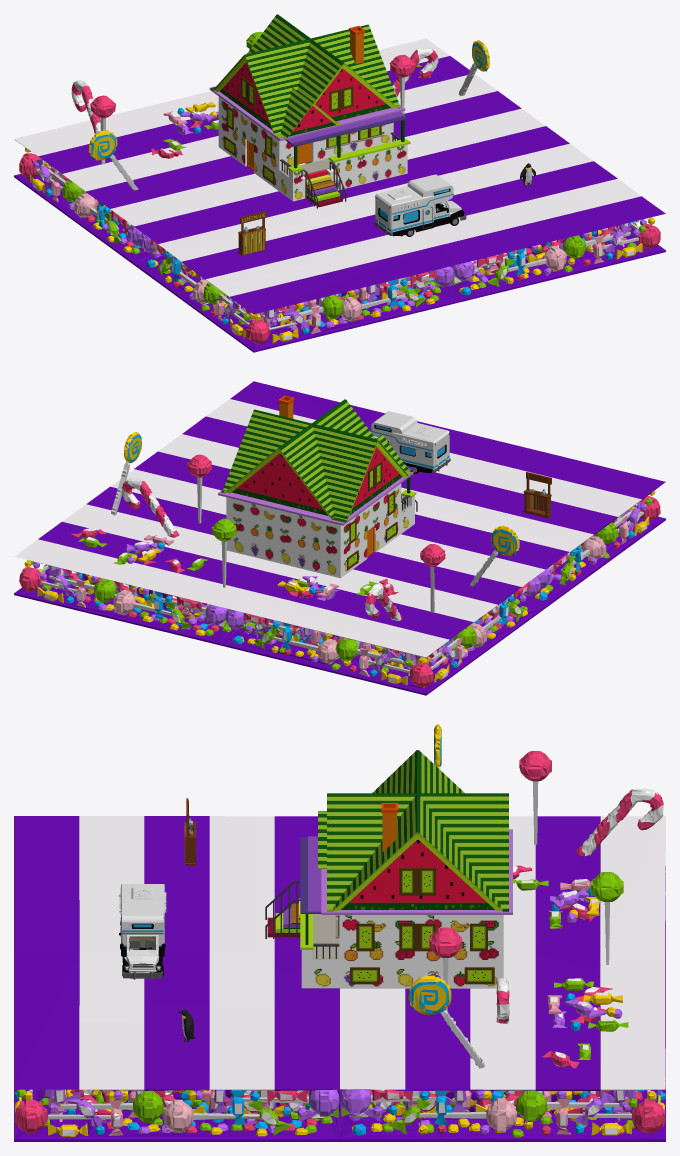
3 renders of one model, top to bottom at view 1: azimuth 30°, elevation 25°; view 2: azimuth 150°, elevation 25°; view 3: azimuth 270°, elevation 25°, orthographic. The views are drawn at different scales.
Visible parts, largest first — view 1: TERRAIN_CANDY, Cube.1063, VEHICLES_CAMPER, OBJRANDOM_LEMONADE_STAND; view 2: TERRAIN_CANDY, Cube.1063, VEHICLES_CAMPER, OBJRANDOM_LEMONADE_STAND; view 3: TERRAIN_CANDY, Cube.1063, VEHICLES_CAMPER, OBJRANDOM_LEMONADE_STAND.
Part boxes in pixels (x1,y1,x2,y2): TERRAIN_CANDY: (14,31,665,352); Cube.1063: (209,14,410,208); VEHICLES_CAMPER: (374,174,466,236); OBJRANDOM_LEMONADE_STAND: (238,211,266,255); TERRAIN_CANDY: (14,381,665,695); Cube.1063: (218,395,417,578); VEHICLES_CAMPER: (371,411,450,473); OBJRANDOM_LEMONADE_STAND: (523,472,551,518); TERRAIN_CANDY: (14,724,665,1141); Cube.1063: (265,750,512,988); VEHICLES_CAMPER: (119,884,166,979); OBJRANDOM_LEMONADE_STAND: (184,798,195,866).
Size of the model in its own units: 4059 by 1584 by 4000.
Materials: 31 (4 with a texture image).
